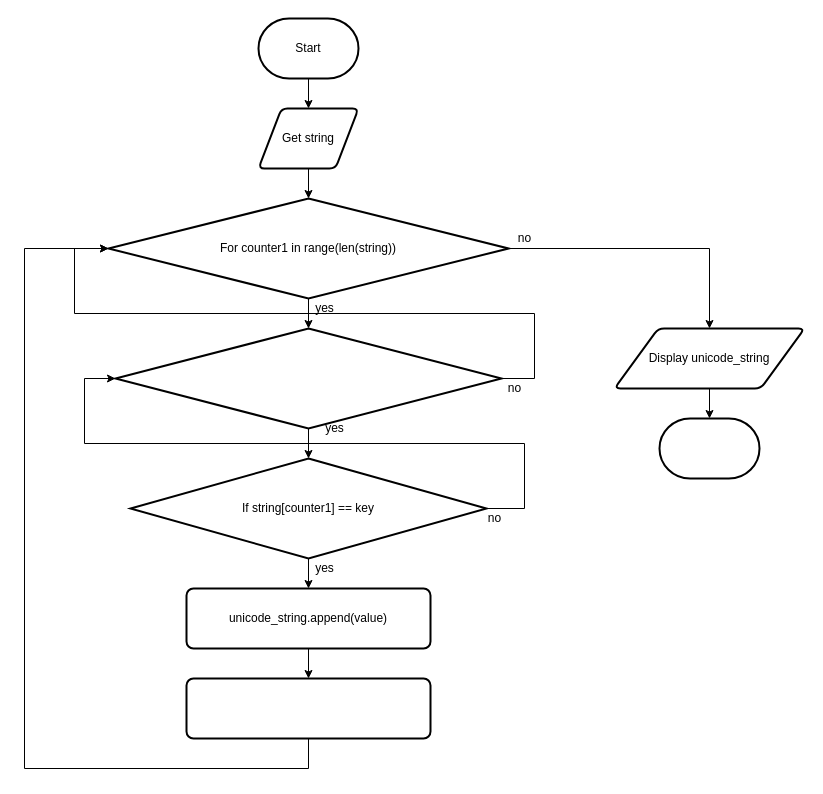
The diagram is 823 pixels wide and 794 high, and some of its shapes have lost their labels. The shapes that lost their labels are listed below. From the top down, each one's box as (x1, y1, x2, y2) in pixels, then its label:
(114, 327, 502, 429): For key, value in unicode.dictionary.items()
(658, 417, 760, 479): Stop
(185, 677, 431, 739): break
